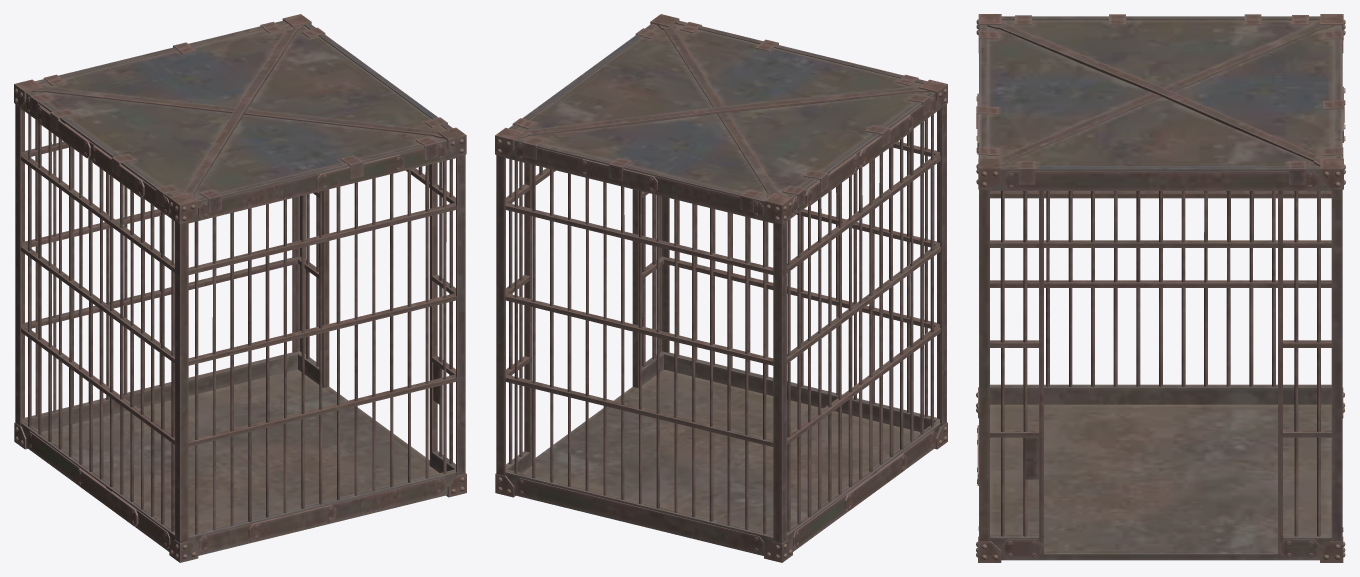
File: SM_PalCage_b3cff7.glb
The picture shows the model from 3 angles, left to right: view 1: azimuth 30°, elevation 25°; view 2: azimuth 150°, elevation 25°; view 3: azimuth 270°, elevation 25°; orthographic projection. The views are drawn at different scales.
Size of the model in its own units: 3.22 by 3.8 by 3.23.
Materials: 2 (2 with a texture image).
